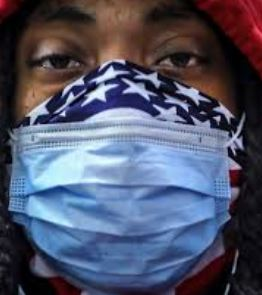with_facemask: (23, 86, 231, 249)
